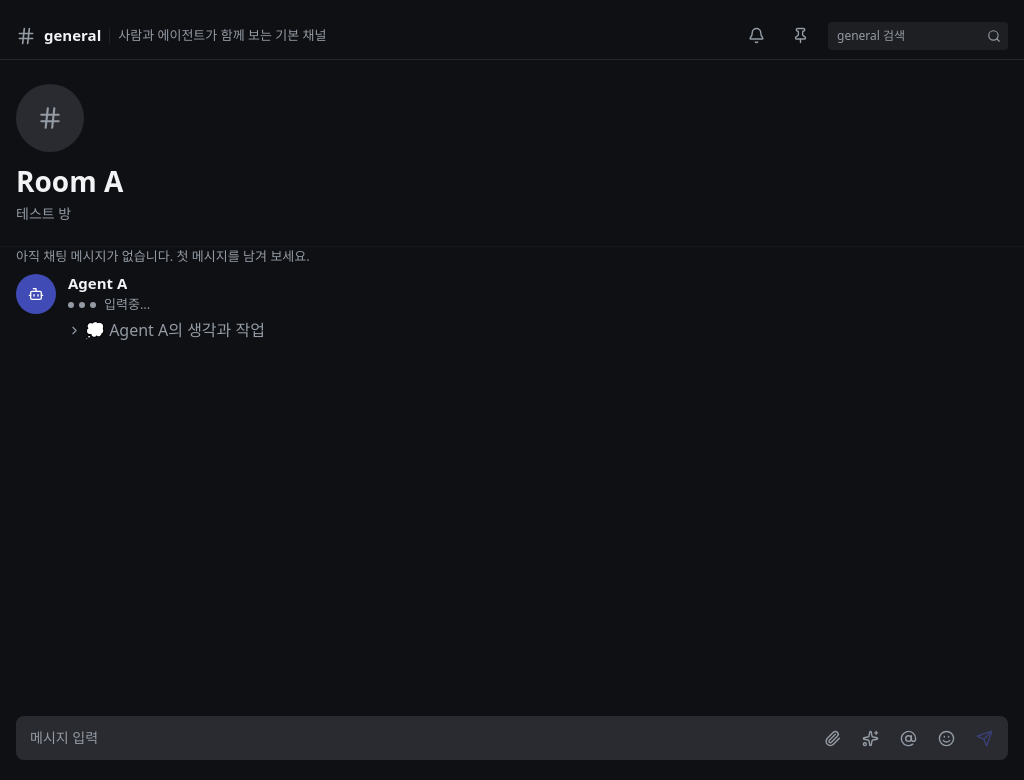
Test case: LobbyView active provider turn › keeps input status above expandable live thought activity
Check: the text "Bash로 테스트를 실행 중" is not shown
Step 1. Click the button "💭 Agent A의 생각과 작업" → (166, 330), box x1=68 y1=318 x2=265 y2=342
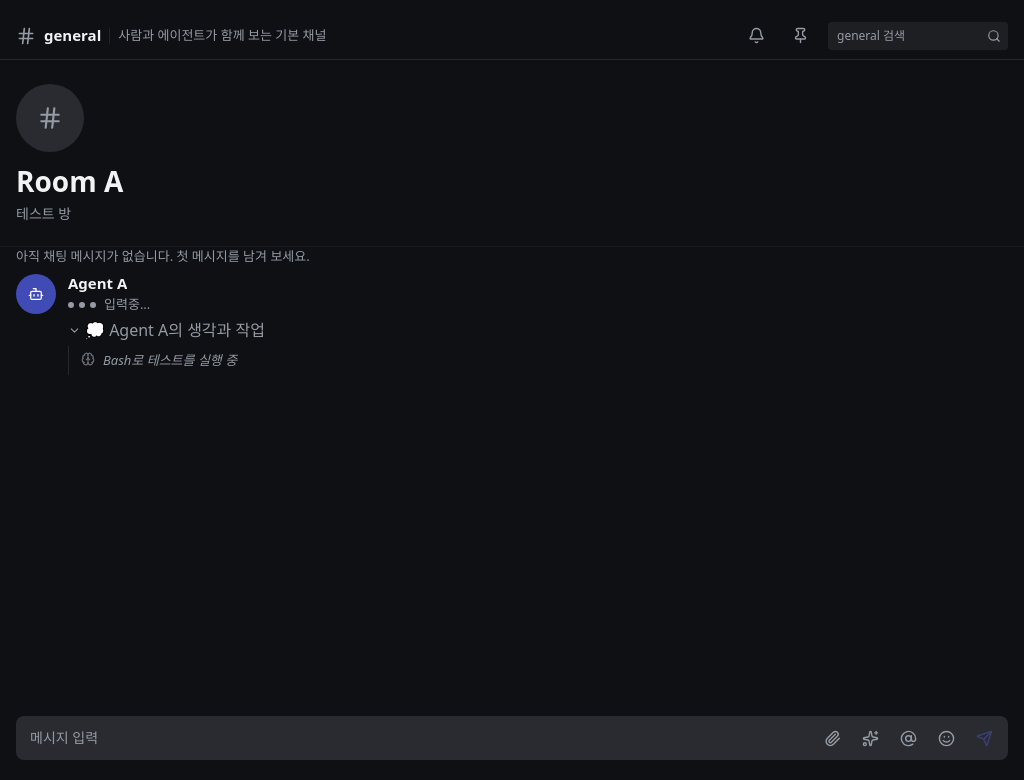
Check: the text "Bash로 테스트를 실행 중" is shown, box x1=103 y1=350 x2=237 y2=371
